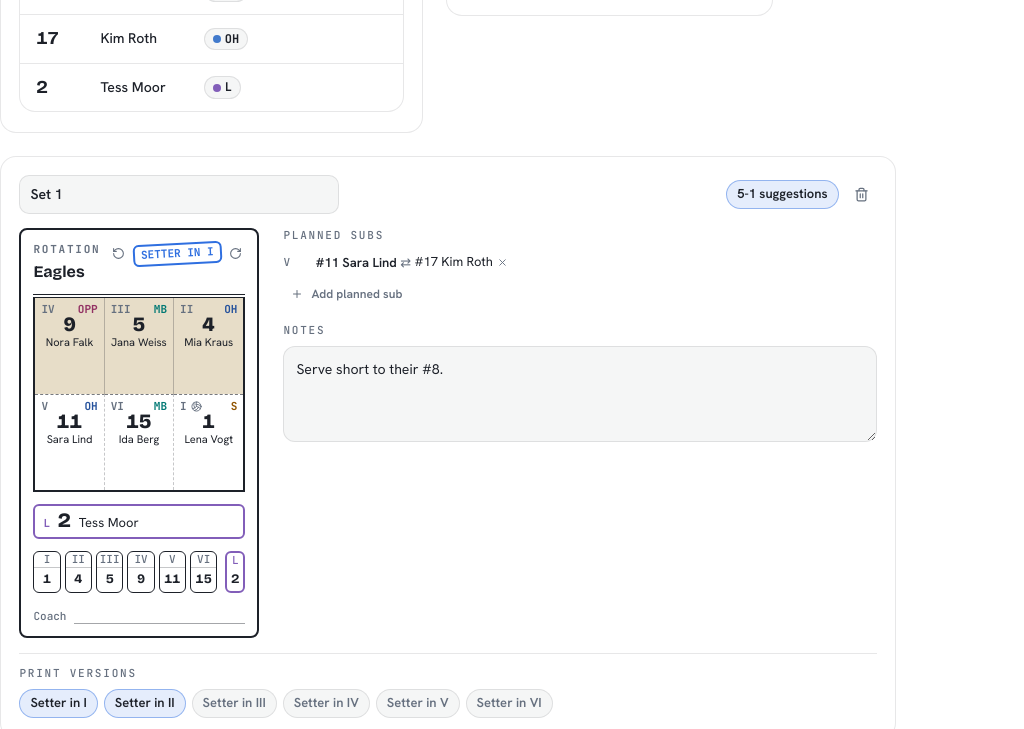
Test: GamePage as a coach › a position's picker suggests the 5-1 role first, and picking a placed player swaps them
(page scrolled)
Click the button with aria-label "Position III: #5 Jana Weiss" at (139, 346), box [105,298,173,394]
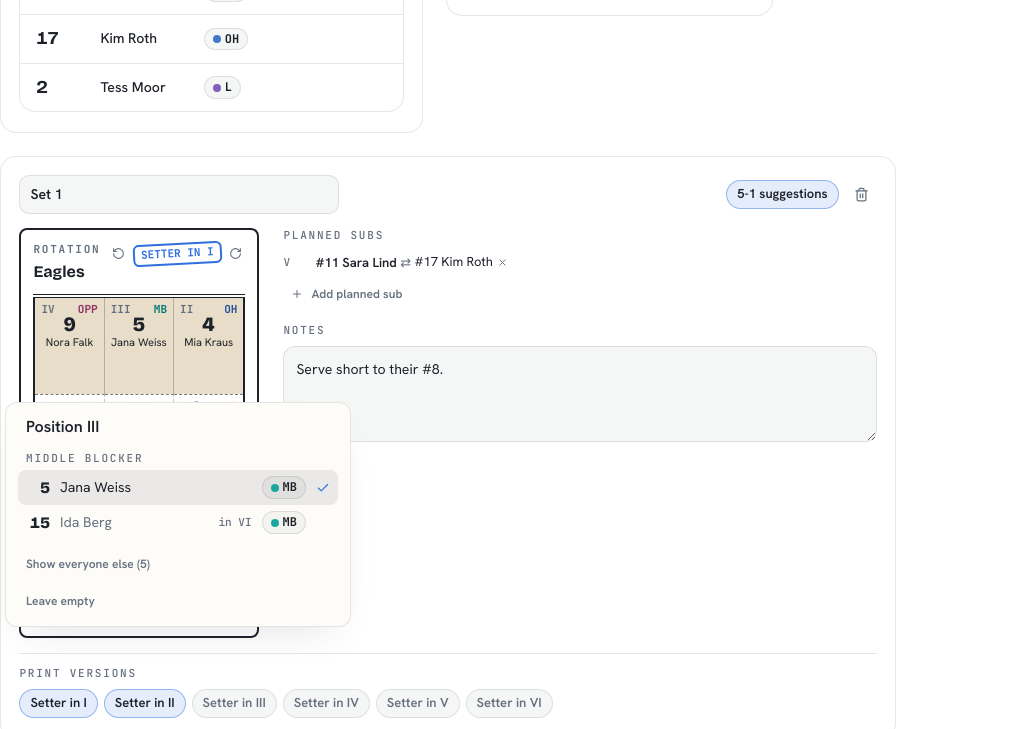
Click the button "Show everyone else (5)" at (88, 564), box [18,552,158,577]
(page scrolled)
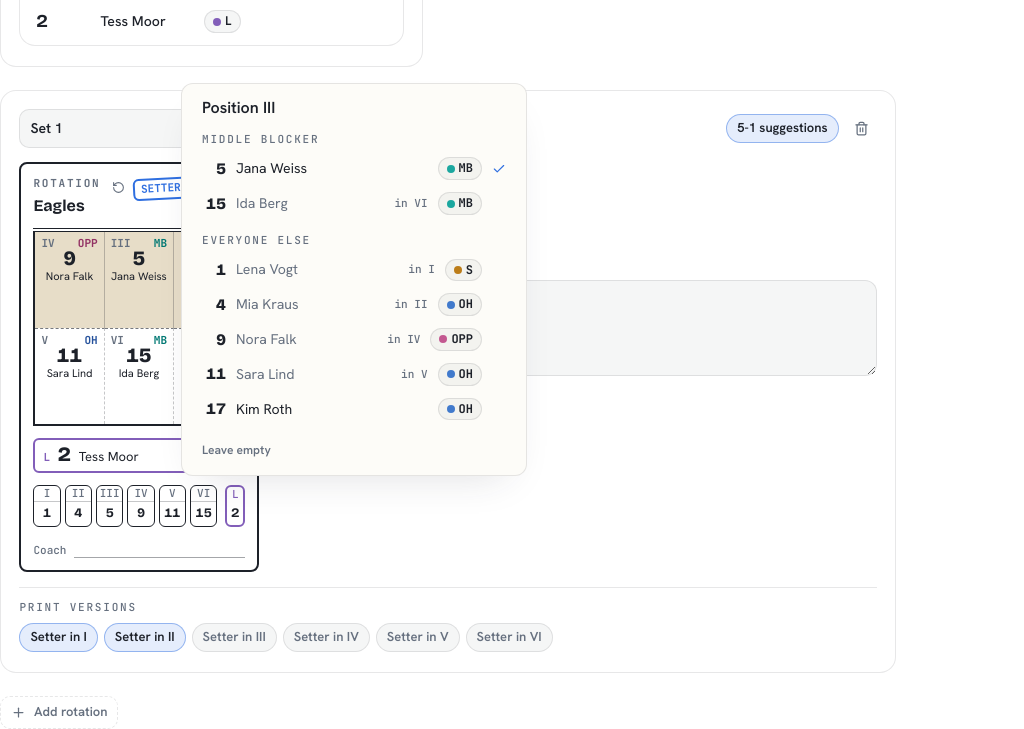
Check: the text "Mia Kraus" is shown, box [236,295,299,313]
Click the button "15 Ida Berg in VI MB" at (262, 203), box [194,186,514,221]
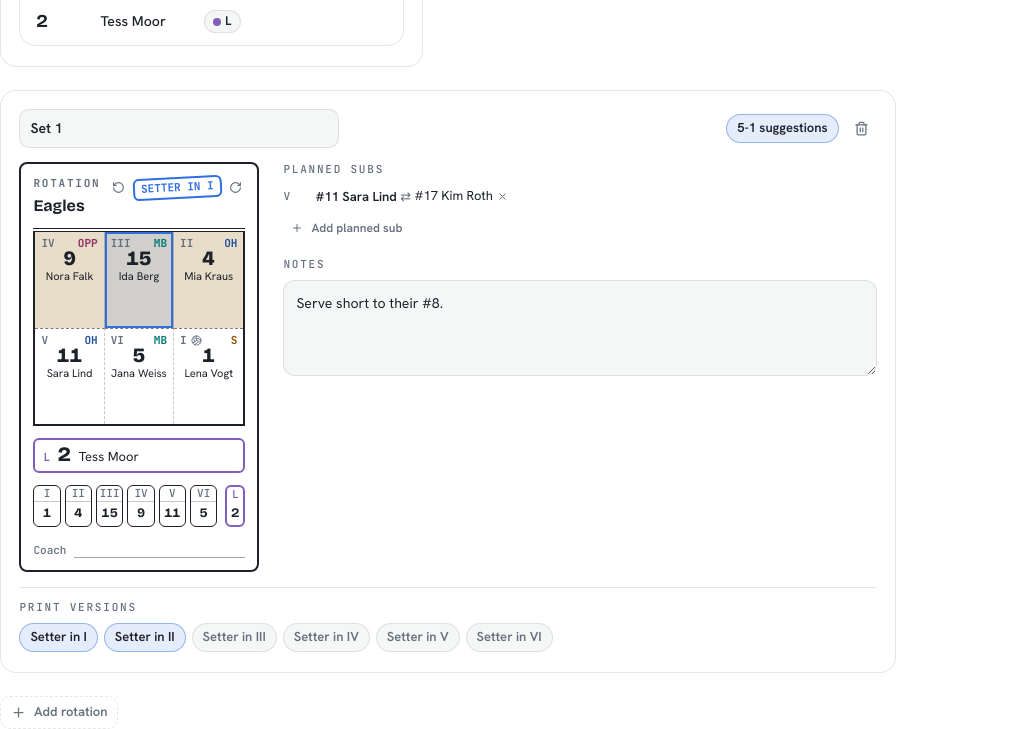
Check: the button with aria-label "Position III: #15 Ida Berg" is shown, box [105,232,173,328]
Check: the button with aria-label "Position VI: #5 Jana Weiss" is shown, box [105,329,173,424]
